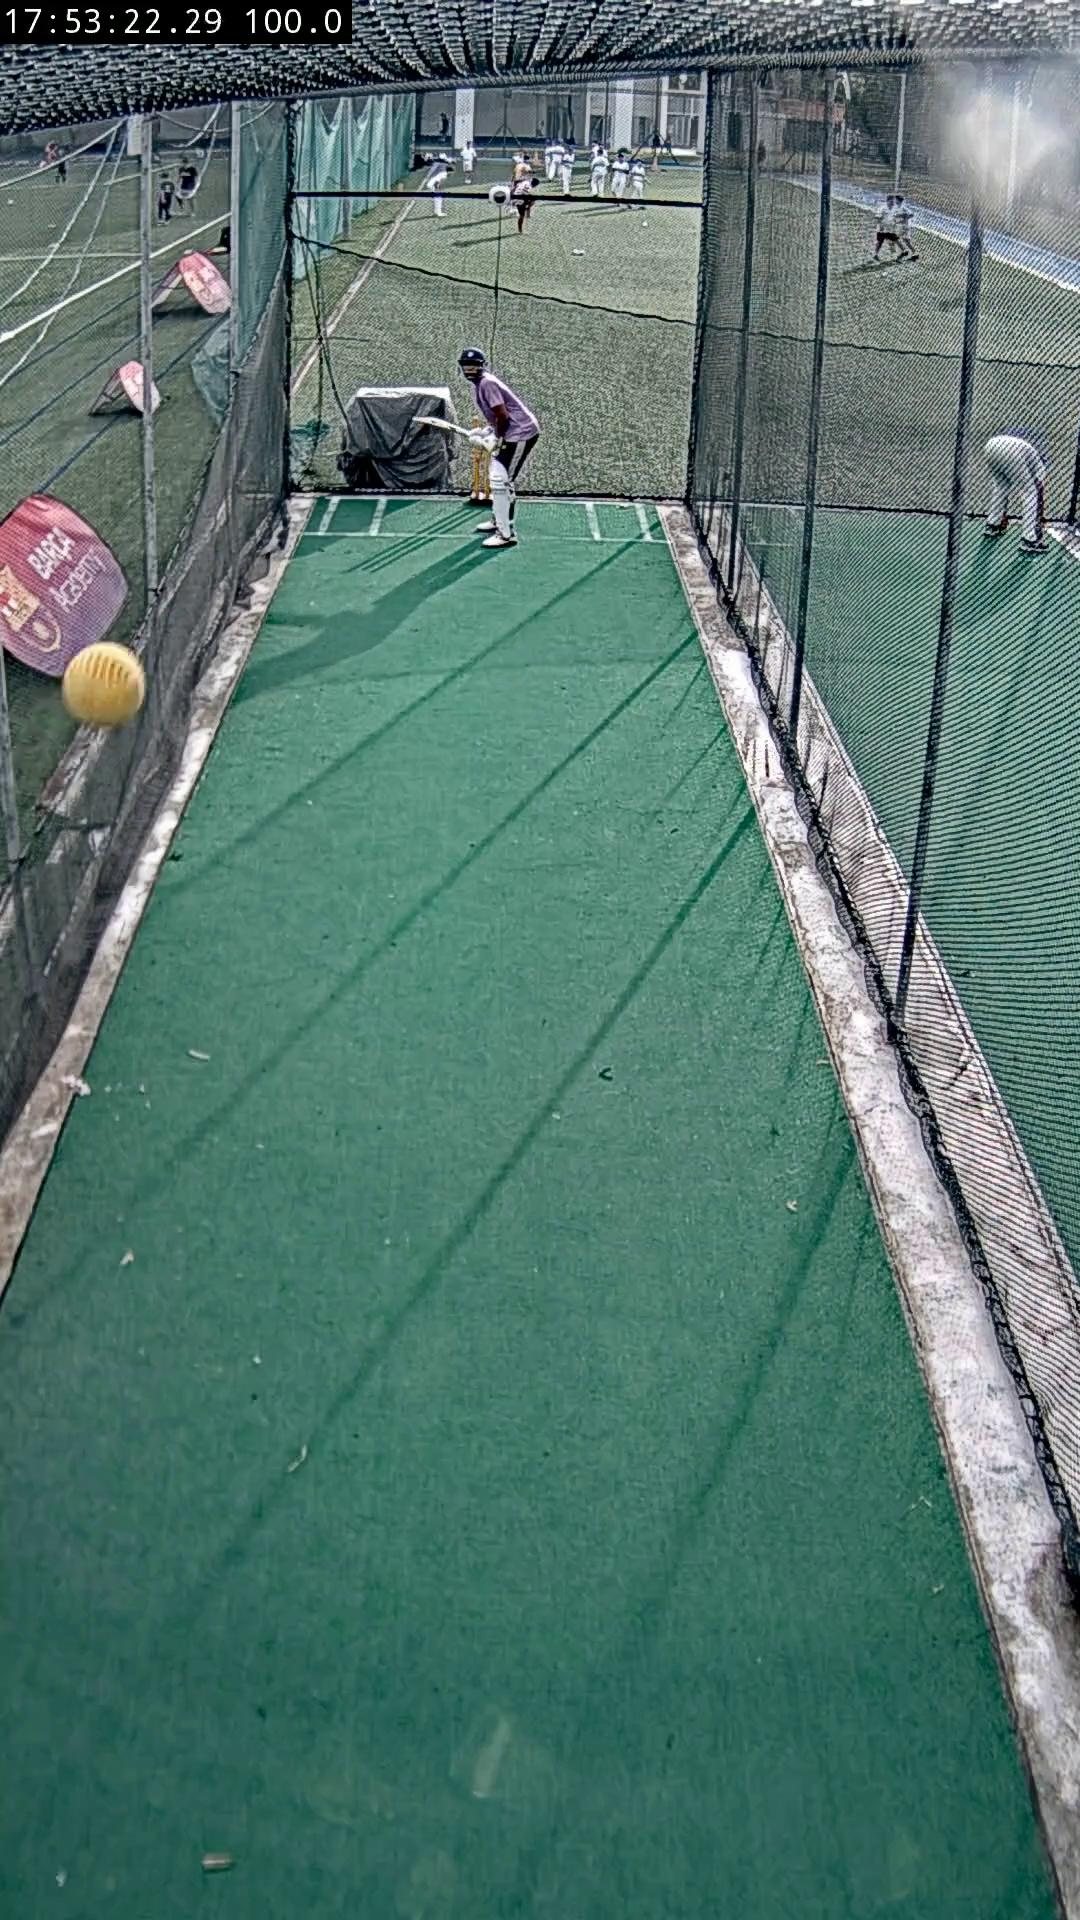ball: (63, 641, 146, 728)
bat: (417, 417, 468, 435)
gloves: (465, 427, 498, 450)
helmet: (458, 348, 488, 368)
pads: (492, 458, 517, 537)
stumps: (468, 446, 492, 506)
